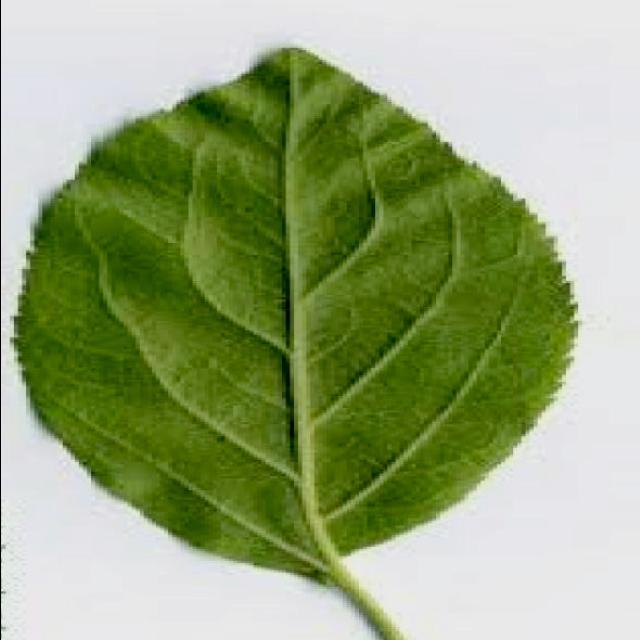leaf: (11, 43, 580, 637)
